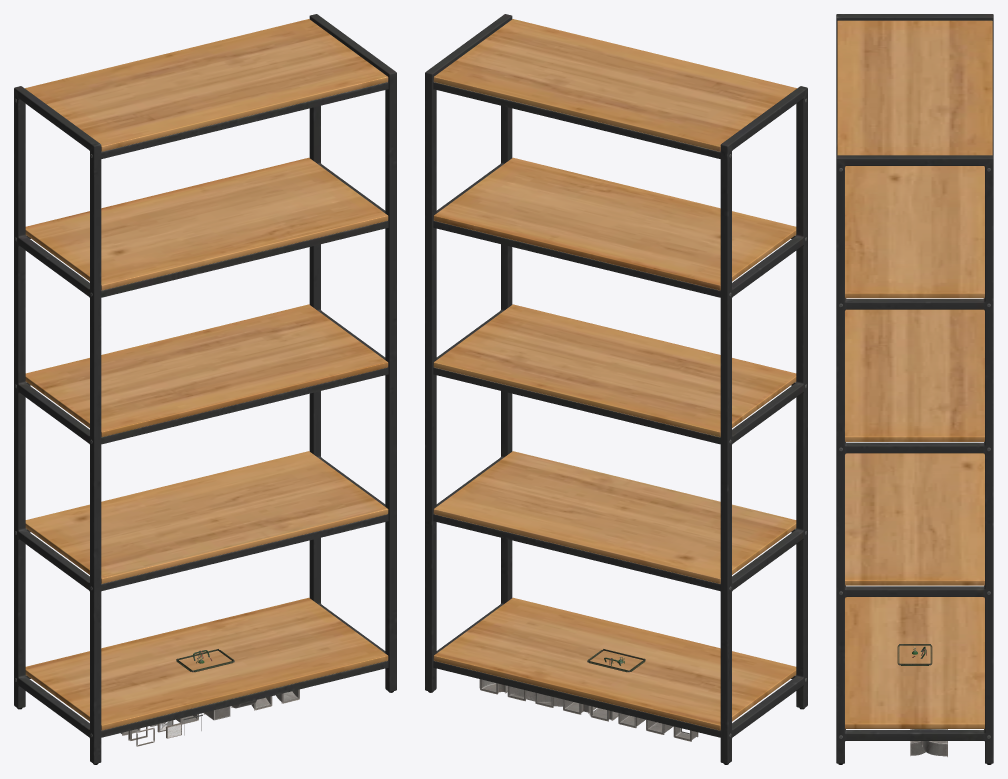
Rendered from props.glb.
3 views of the same model, side by side, from view 1: azimuth 30°, elevation 25°; view 2: azimuth 150°, elevation 25°; view 3: azimuth 270°, elevation 25° (orthographic). The views are drawn at different scales.
Visible parts, largest first — view 1: steel_frame_shelves_01, modular_airduct_rectangular_01; view 2: steel_frame_shelves_01, modular_airduct_rectangular_01; view 3: steel_frame_shelves_01, modular_airduct_rectangular_01.
Part boxes in pixels (left/top/right/bottom): steel_frame_shelves_01: left=14, top=14, right=396, bottom=764; modular_airduct_rectangular_01: left=120, top=689, right=299, bottom=740; steel_frame_shelves_01: left=425, top=14, right=807, bottom=764; modular_airduct_rectangular_01: left=479, top=679, right=698, bottom=741; steel_frame_shelves_01: left=836, top=14, right=993, bottom=764; modular_airduct_rectangular_01: left=910, top=729, right=947, bottom=756.
Size of the model in its own units: 10.97 by 22.1 by 5.02.
Materials: 22 (22 with a texture image).
